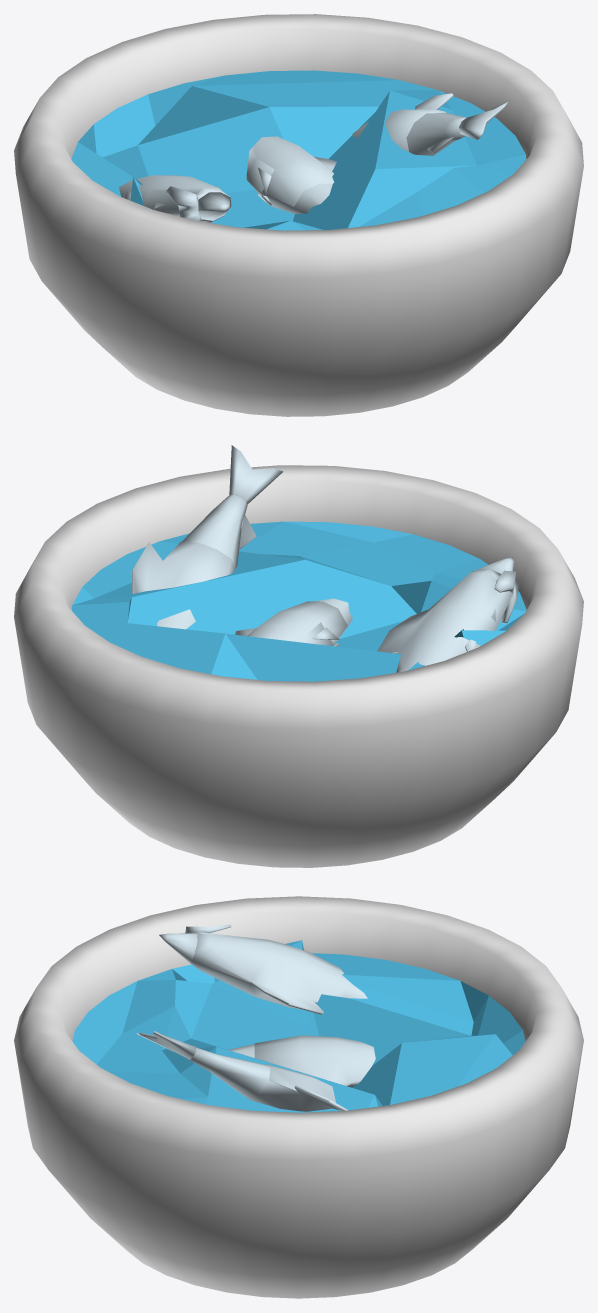
The model's file is fishSoup.fbx.
3 renders of one model, top to bottom at view 1: azimuth 30°, elevation 25°; view 2: azimuth 150°, elevation 25°; view 3: azimuth 270°, elevation 25°, orthographic.
Visible parts, largest first — view 1: fishSoup; view 2: fishSoup; view 3: fishSoup.
Boxes of the visible parts, x1=… form: fishSoup: x1=14, y1=14, x2=583, y2=416; fishSoup: x1=14, y1=445, x2=583, y2=867; fishSoup: x1=14, y1=896, x2=583, y2=1298.
Bounding box in the file's own units: 252 × 125 × 252.
